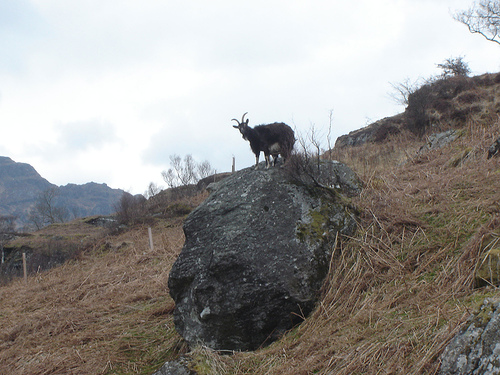goat: (231, 111, 296, 171)
